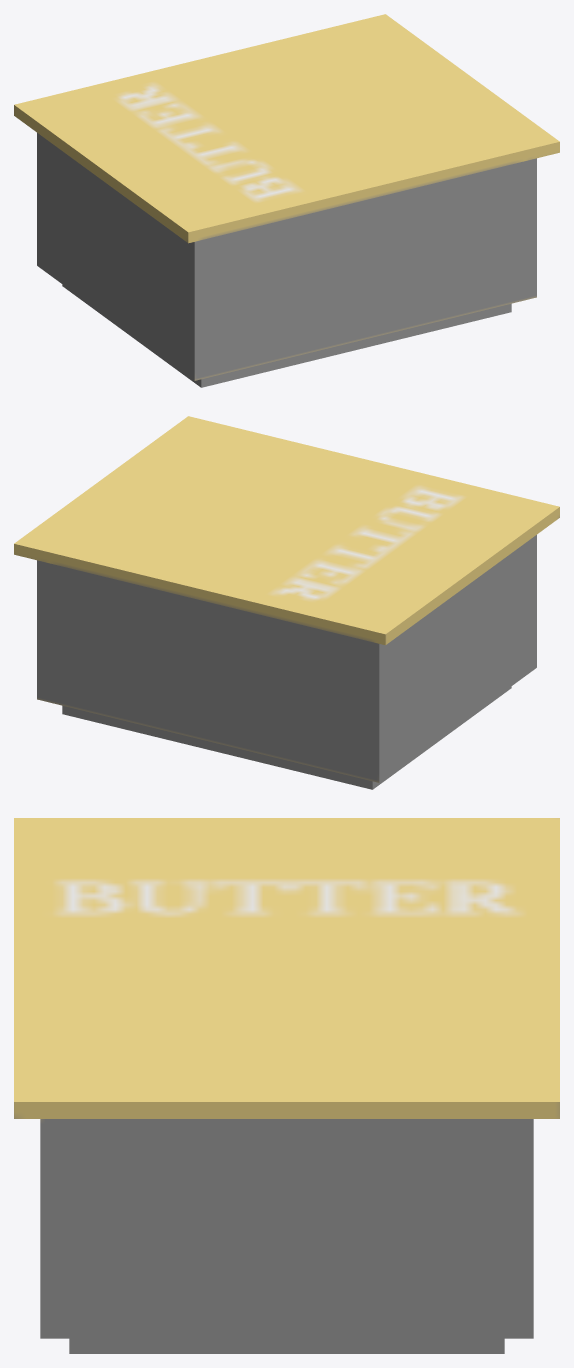
File: Butter Packet.fbx
The picture shows the model from 3 angles, top to bottom: view 1: azimuth 30°, elevation 25°; view 2: azimuth 150°, elevation 25°; view 3: azimuth 270°, elevation 25°; orthographic projection. The views are drawn at different scales.
Parts seen in each view (by area): view 1: Butter_Pack_6; view 2: Butter_Pack_6; view 3: Butter_Pack_6.
Boxes of the visible parts, x1,y1,x2,y2 form: Butter_Pack_6: (14, 14, 559, 387); Butter_Pack_6: (14, 416, 559, 789); Butter_Pack_6: (14, 818, 559, 1353).
Bounding box in the file's own units: 5.09 × 2.3 × 4.13.
1 material, 1 textured.
